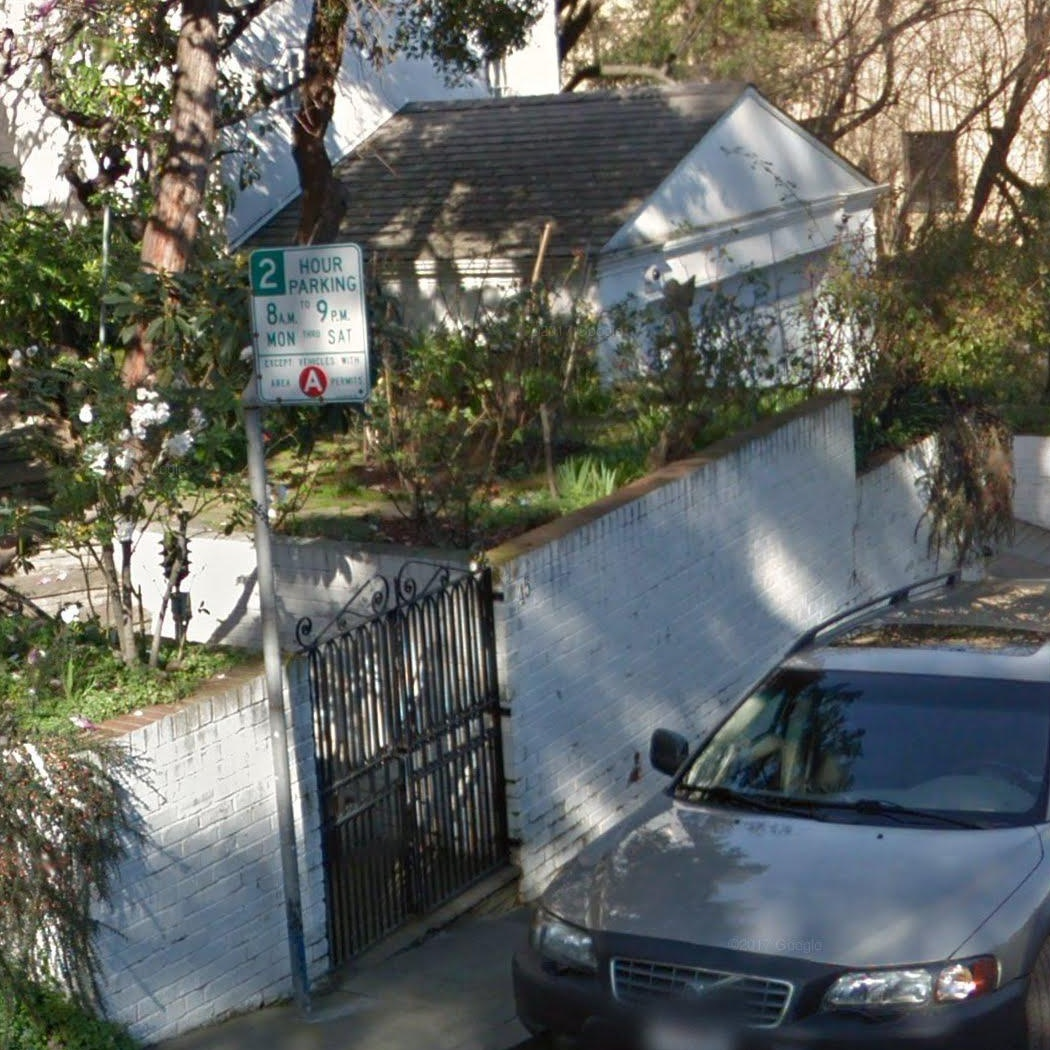2 Hour Parking: (245, 239, 373, 405)
